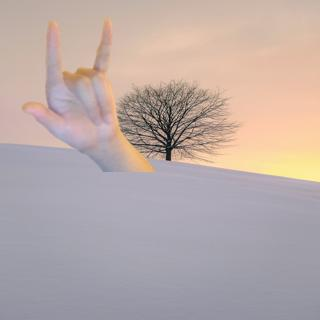ILY: (17, 13, 126, 152)
